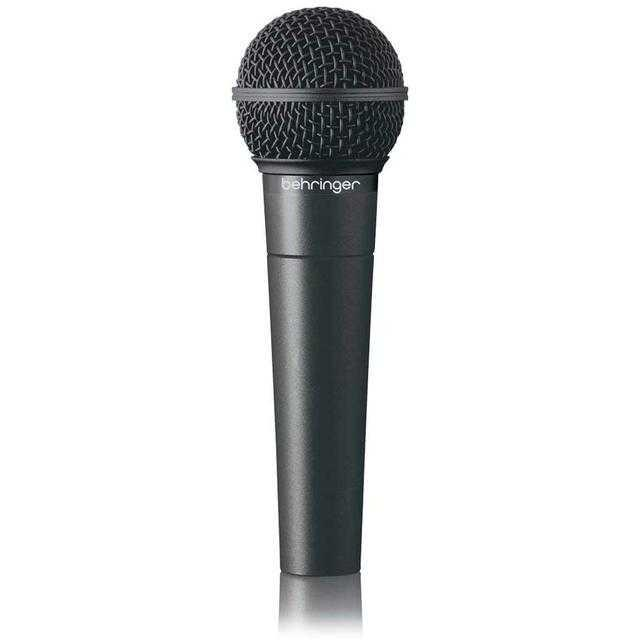microphone: (218, 17, 408, 572)
